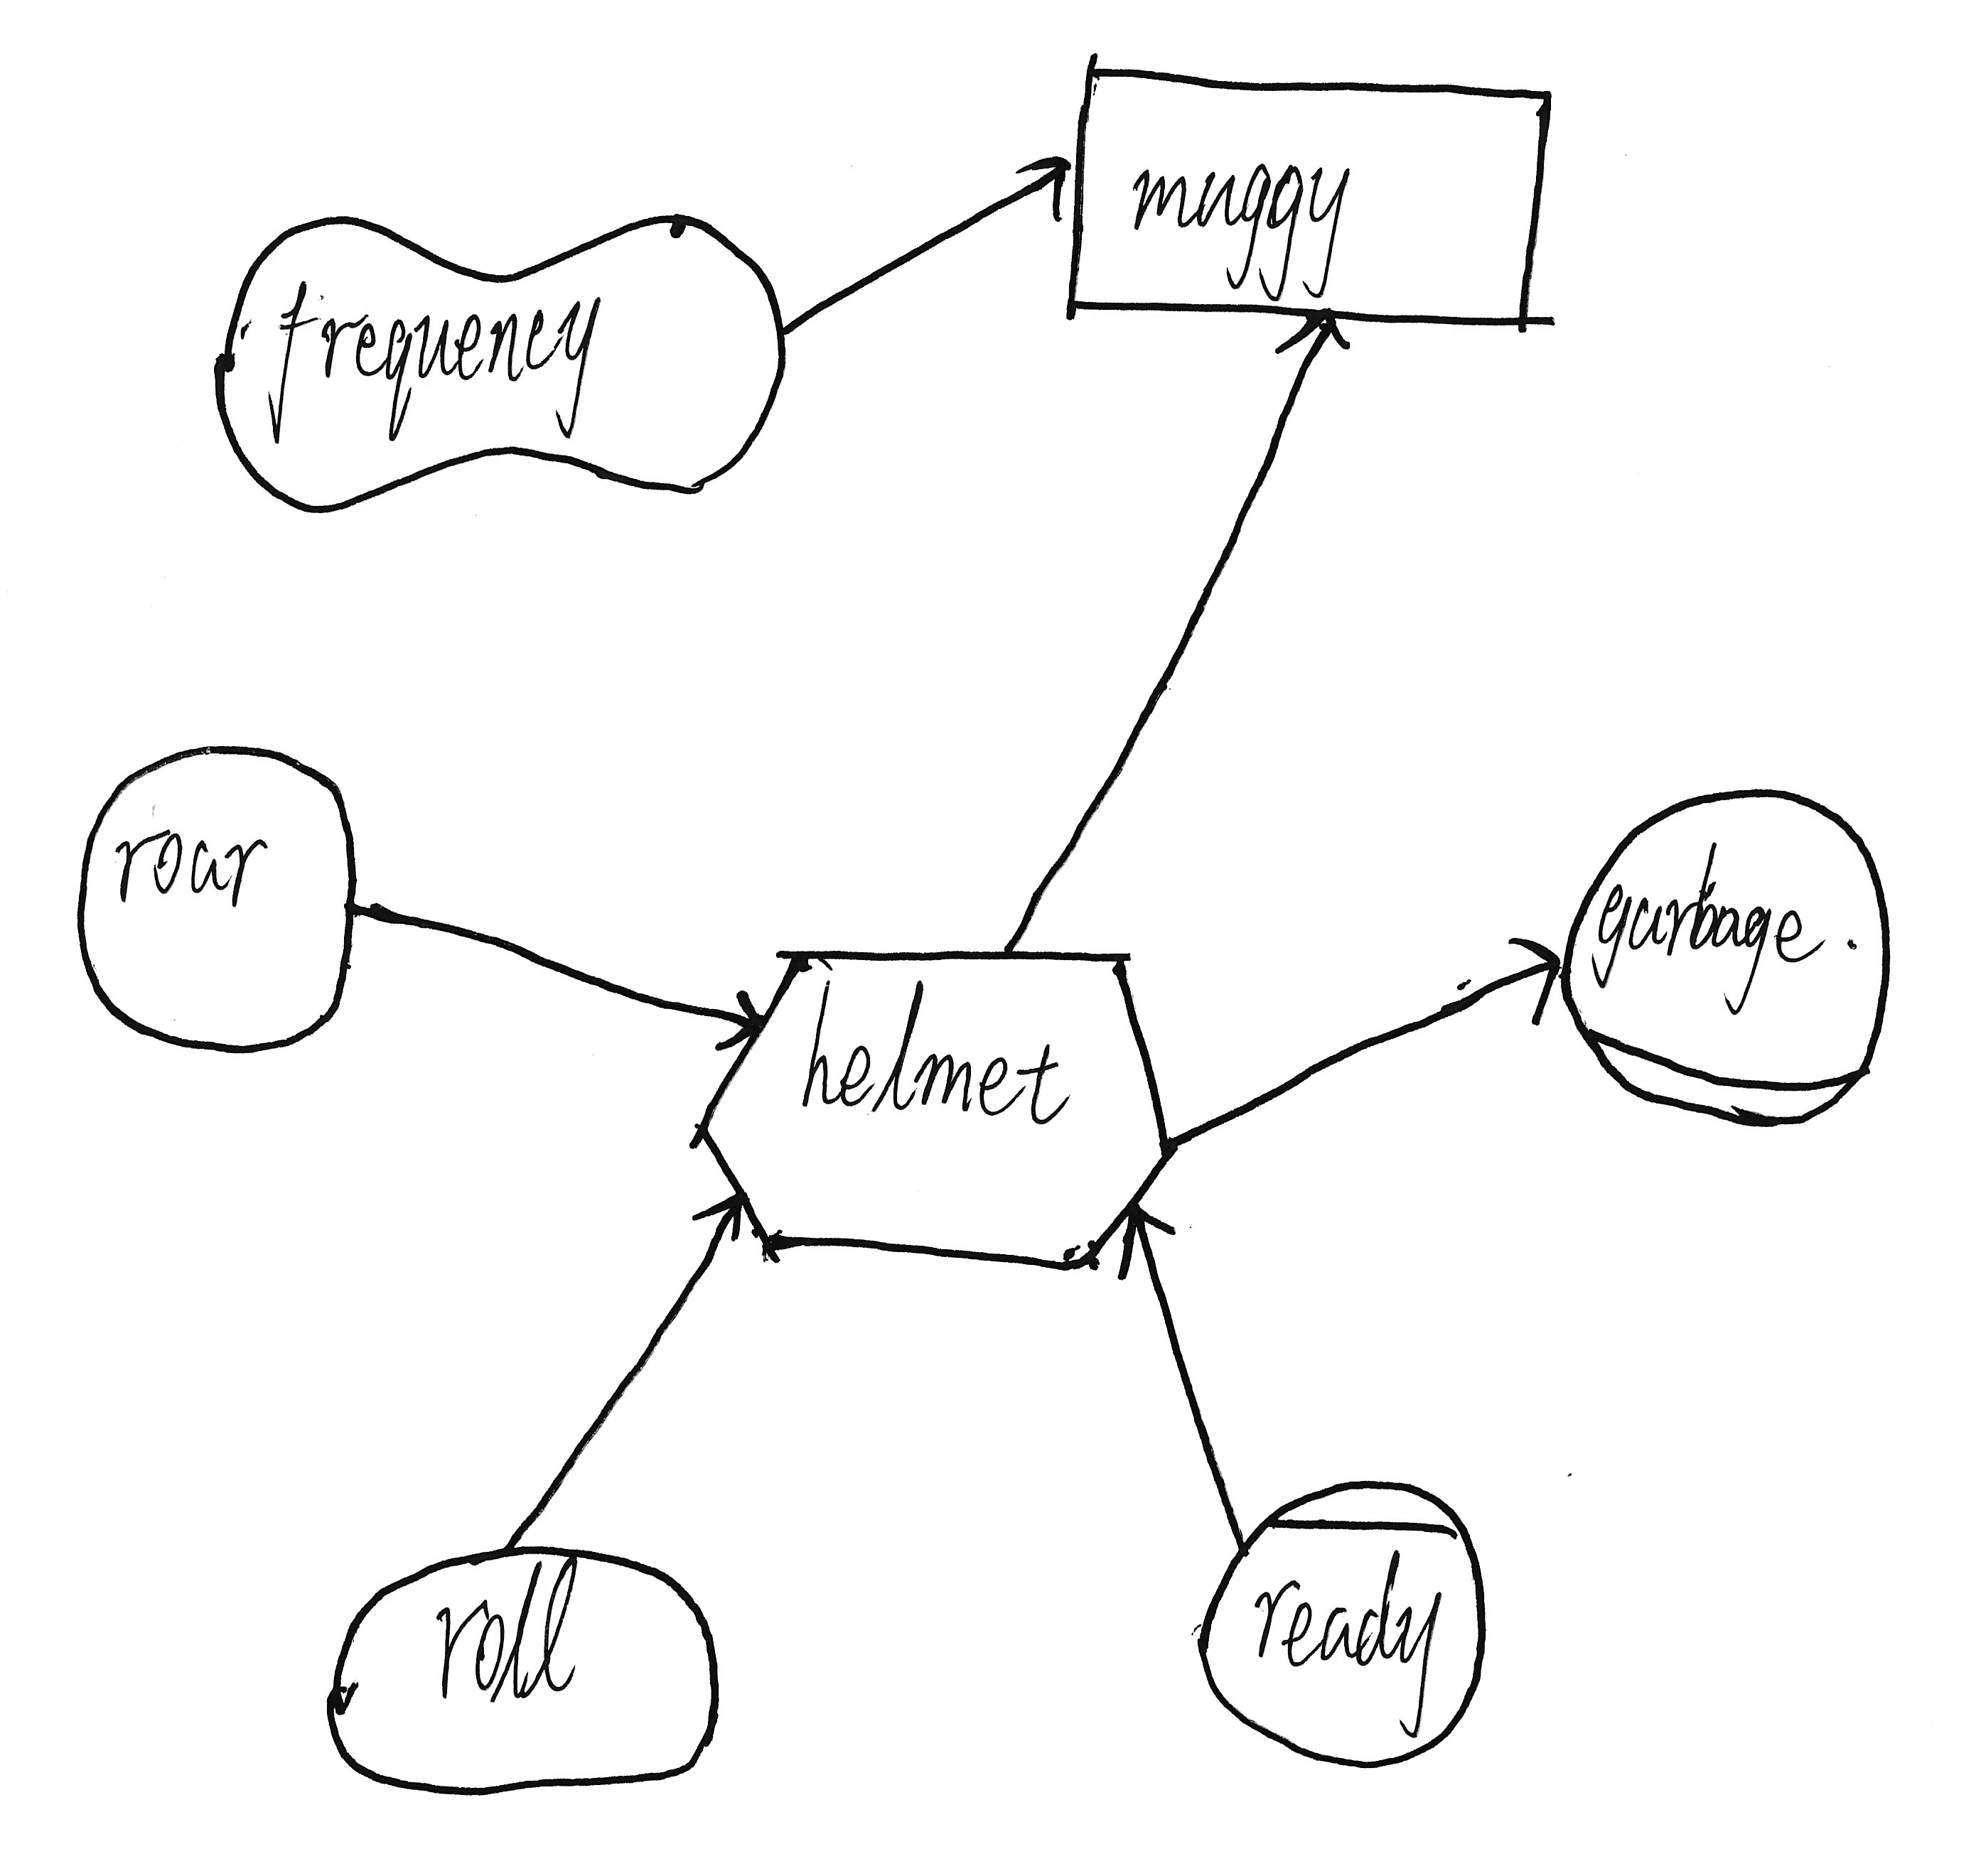actor: (53, 719, 385, 1076)
agent: (1173, 1458, 1519, 1777)
arrow: (1489, 924, 1576, 1035), (1103, 1195, 1196, 1285), (1263, 303, 1369, 379), (695, 964, 775, 1058), (677, 1172, 753, 1268), (1009, 129, 1080, 227)
goal: (307, 1522, 737, 1814)
quality: (198, 176, 806, 525)
resource: (1036, 37, 1577, 361)
role: (1528, 770, 1905, 1151)
task: (670, 919, 1196, 1285)
